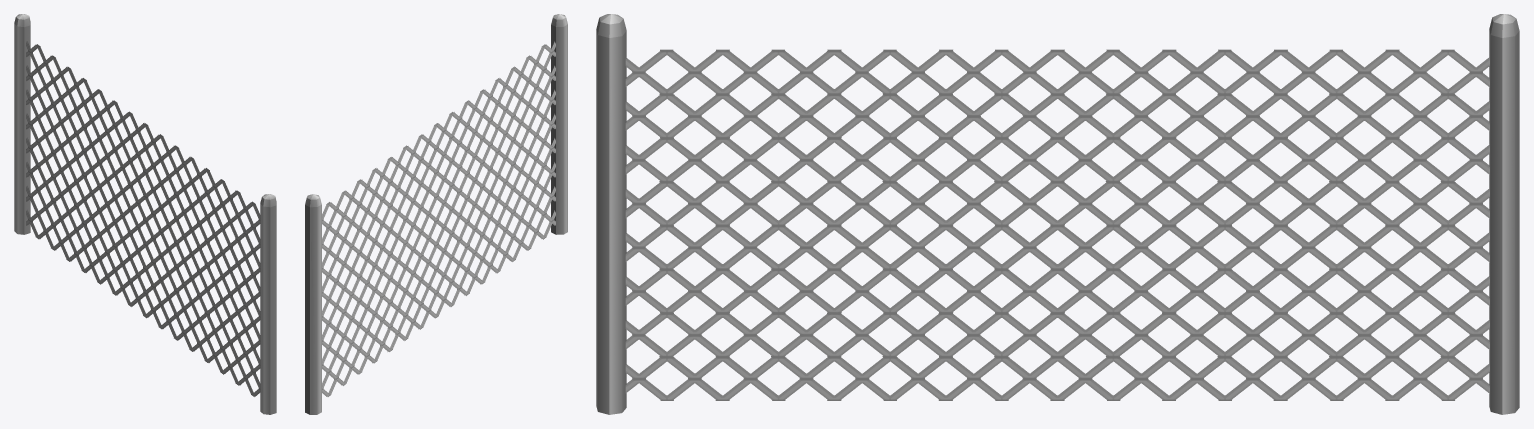
Rendered from MetalEndFenceShort.fbx.
The picture shows the model from 3 angles, left to right: view 1: azimuth 30°, elevation 25°; view 2: azimuth 150°, elevation 25°; view 3: azimuth 270°, elevation 25°; orthographic projection. The views are drawn at different scales.
Parts seen in each view (by area): view 1: Plane#2, Cylinder#2; view 2: Plane#2, Cylinder#2; view 3: Plane#2, Cylinder#2.
Part boxes in pixels (<box>): Plane#2: <box>26,41,260,396</box>; Cylinder#2: <box>14,14,276,414</box>; Plane#2: <box>322,41,555,396</box>; Cylinder#2: <box>305,14,567,414</box>; Plane#2: <box>625,49,1489,400</box>; Cylinder#2: <box>596,14,1519,414</box>.
Size of the model in its own units: 0.1363 by 1.95 by 4.14.
Materials: 2 (2 with a texture image).
